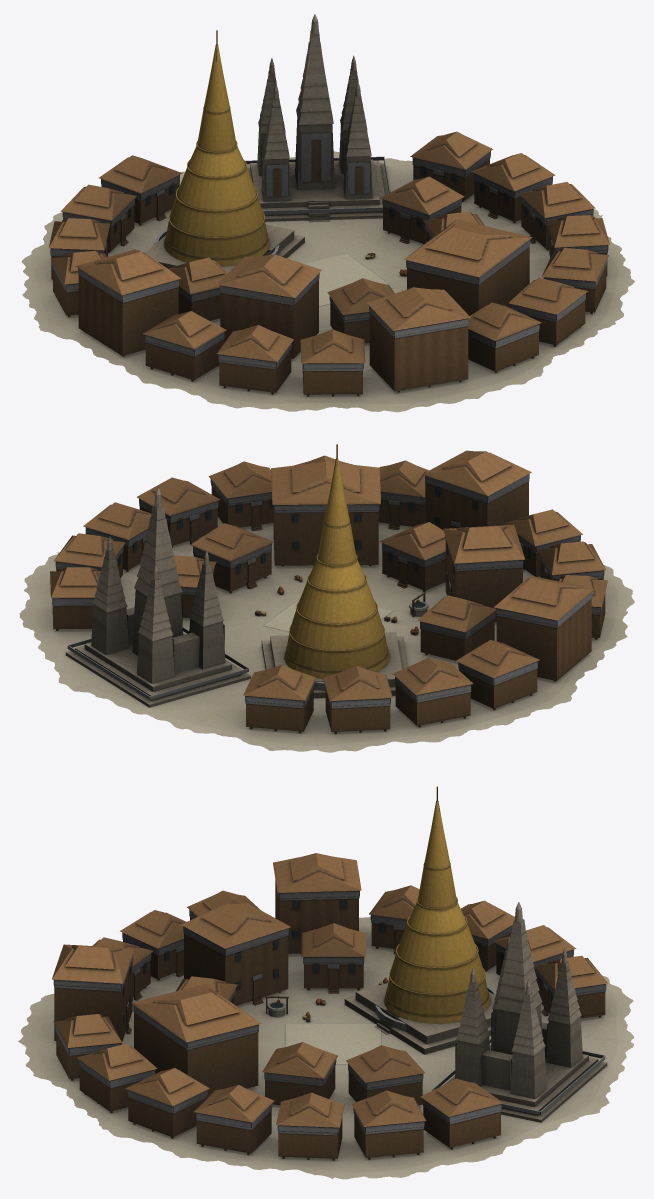
Rendered from kingdoms-town-big-b-monsoon.glb.
The picture shows the model from 3 angles, top to bottom: view 1: azimuth 30°, elevation 25°; view 2: azimuth 150°, elevation 25°; view 3: azimuth 270°, elevation 25°; orthographic projection.
Parts seen in each view (by area): view 1: LOD0; view 2: LOD0; view 3: LOD0.
Boxes of the visible parts, box(x1,y1,x2,y2) form: LOD0: box(21, 14, 634, 412); LOD0: box(19, 444, 634, 752); LOD0: box(18, 786, 633, 1179).
Size of what is drawn, in the model's own units: 8.05 by 3.2 by 7.88.
Materials: 3 (3 with a texture image).
